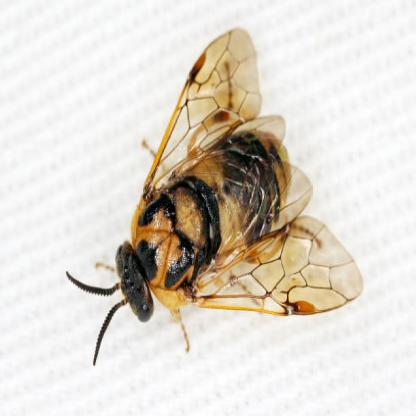sawfly: (66, 27, 363, 367)
